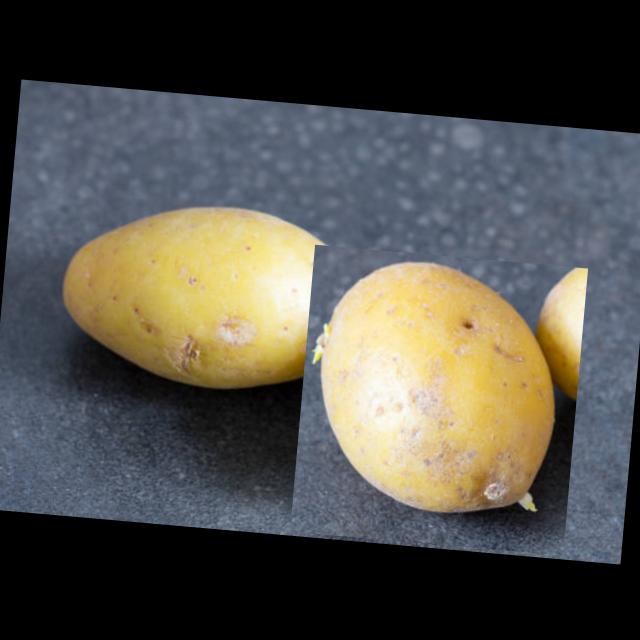Potato: (39, 185, 364, 402)
Sprouted potato: (288, 242, 586, 554)
